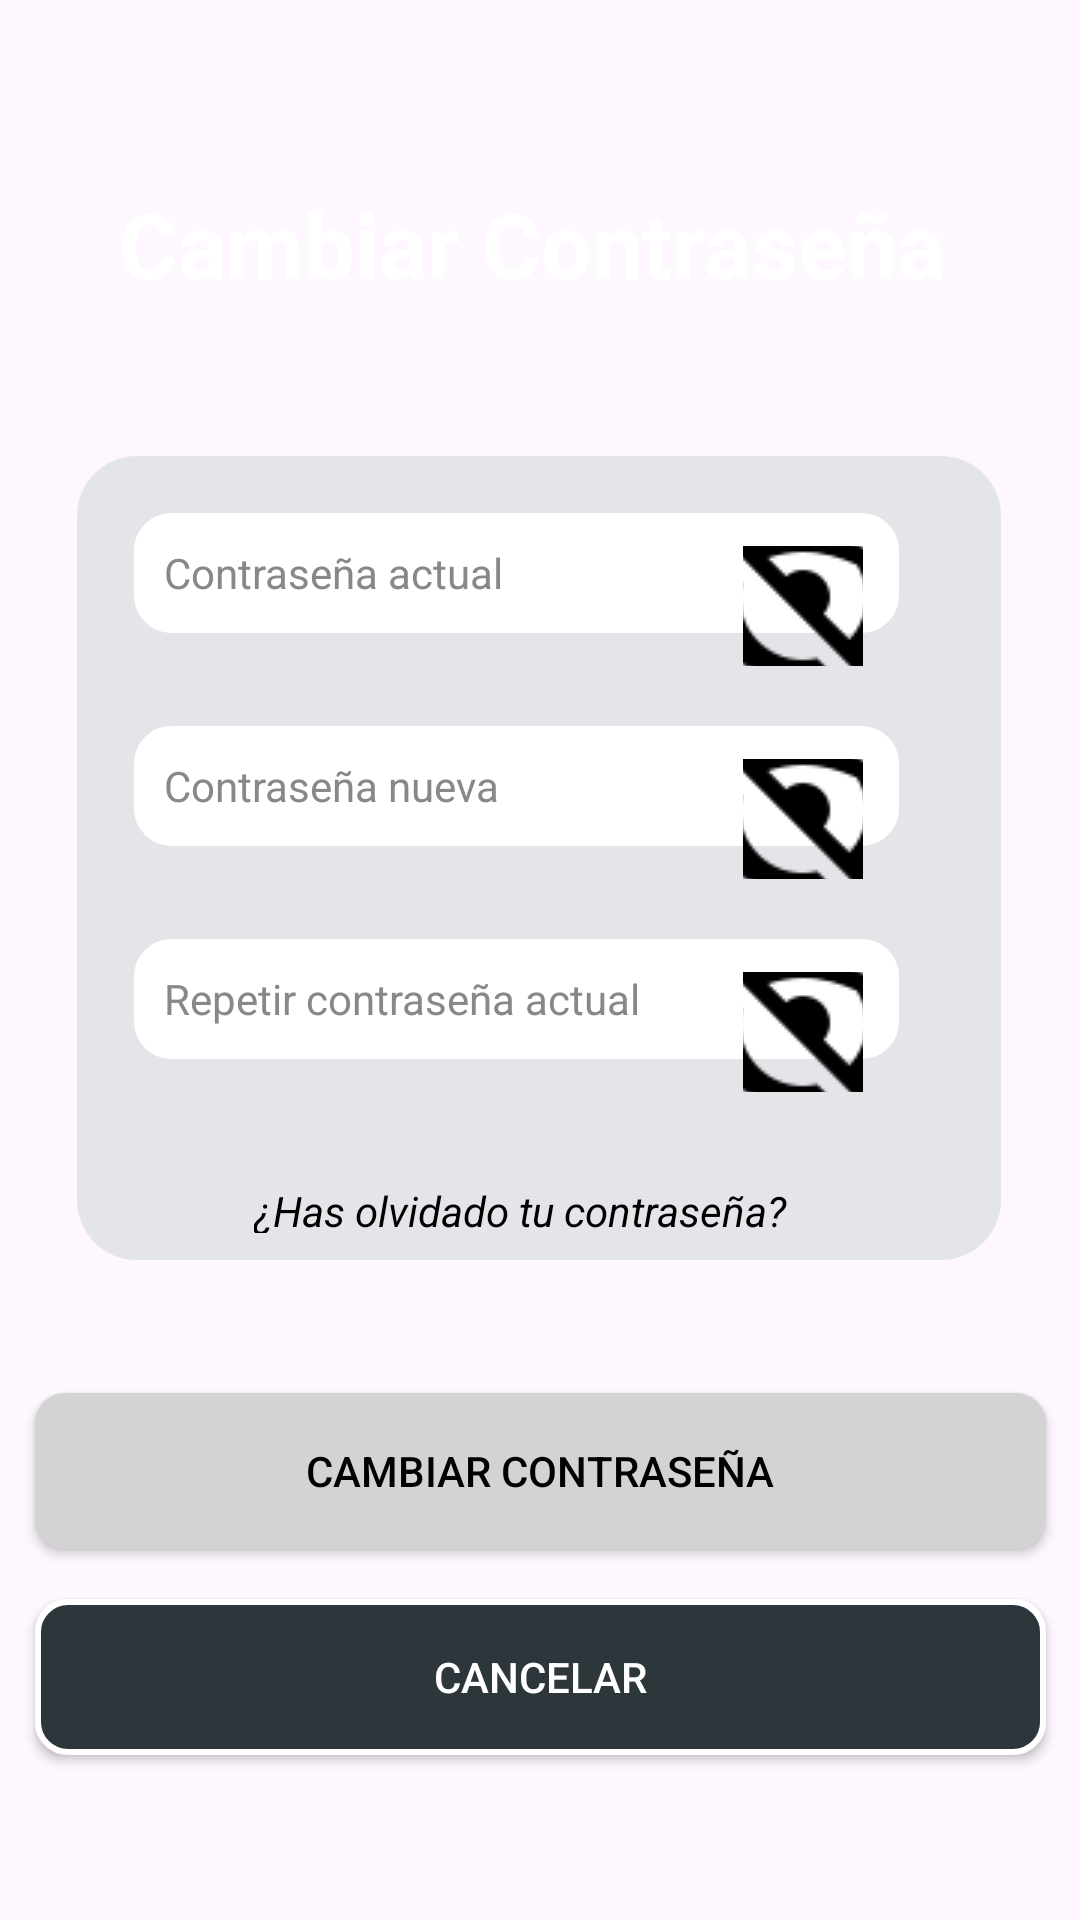

Screen size 1080px×1920px. Icon name, then its center in pixels as point (x, y):
Mostrar/Ocultar contraseña: point (803, 606), point (803, 819), point (803, 1032)
